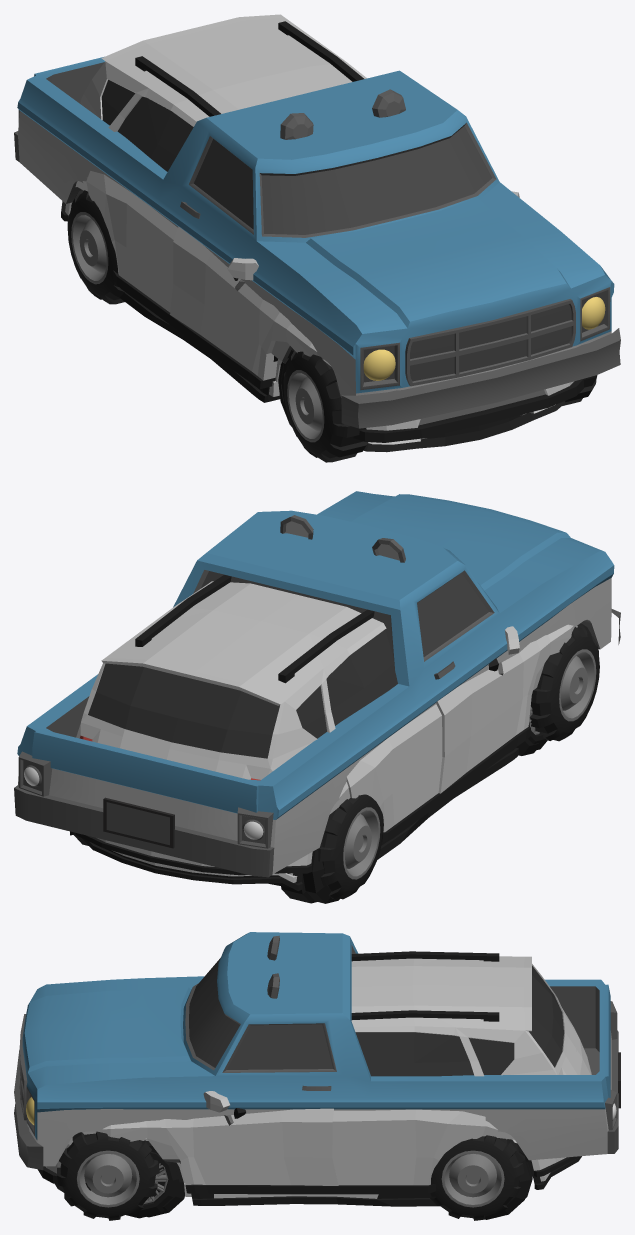
File: vehicles.glb
3 renders of one model, top to bottom at view 1: azimuth 30°, elevation 25°; view 2: azimuth 150°, elevation 25°; view 3: azimuth 270°, elevation 25°, orthographic. The views are drawn at different scales.
Parts seen in each view (by area): view 1: Pickup, SUV_Cube, FrontWheel_R, BackWheels, Cop_Cube.001, Circle; view 2: Pickup, SUV_Cube, FrontWheel_R, BackWheels, Cop_Cube.001, Circle, SUV_BackWheels_Cylinder.009; view 3: Pickup, SUV_Cube, FrontWheel_L, BackWheels, Cop_Cube.001, SUV_FrontLeftWheel_Cylinder.010, SUV_BackWheels_Cylinder.009, Cop_FrontLeftWheel_Cylinder.011, Circle.
Part boxes in pixels (box(x1,y1,x2,y2)): Pickup: box(14, 56, 620, 428); SUV_Cube: box(61, 14, 583, 442); FrontWheel_R: box(283, 350, 368, 462); BackWheels: box(67, 190, 124, 304); Cop_Cube.001: box(119, 277, 565, 452); Circle: box(280, 89, 405, 139); Pickup: box(14, 491, 620, 877); SUV_Cube: box(74, 575, 577, 875); FrontWheel_R: box(529, 623, 599, 741); BackWheels: box(318, 794, 383, 899); Cop_Cube.001: box(70, 658, 518, 890); Circle: box(280, 515, 405, 562); SUV_BackWheels_Cylinder.009: box(74, 835, 340, 903); Pickup: box(14, 932, 620, 1170); SUV_Cube: box(38, 951, 591, 1194); FrontWheel_L: box(57, 1131, 159, 1220); BackWheels: box(430, 1135, 524, 1220); Cop_Cube.001: box(55, 1108, 581, 1206); SUV_FrontLeftWheel_Cylinder.010: box(126, 1140, 178, 1218); SUV_BackWheels_Cylinder.009: box(485, 1150, 530, 1219); Cop_FrontLeftWheel_Cylinder.011: box(146, 1157, 184, 1217); Circle: box(267, 935, 279, 998).
Bounding box in the file's own units: 1.5 × 1.24 × 3.2.
23 materials, 3 textured.
